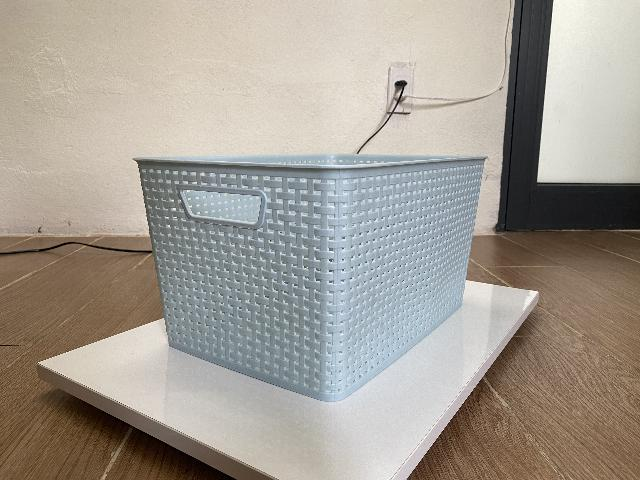cart: (135, 155, 486, 405)
